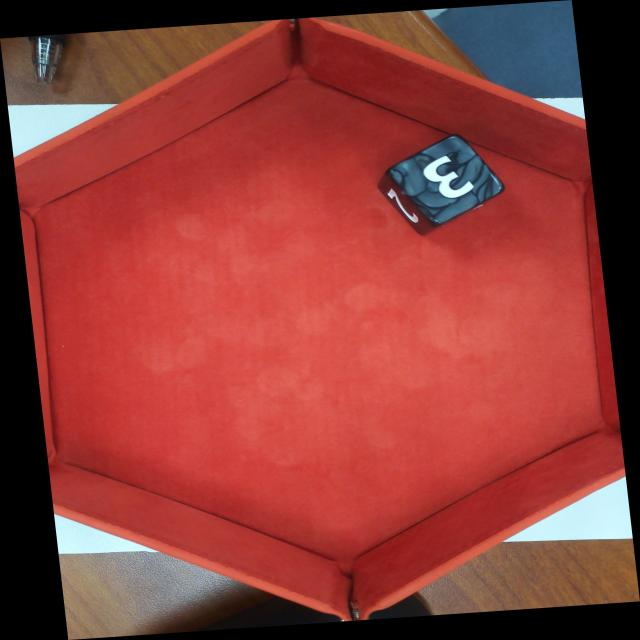dice: (392, 136, 507, 224)
